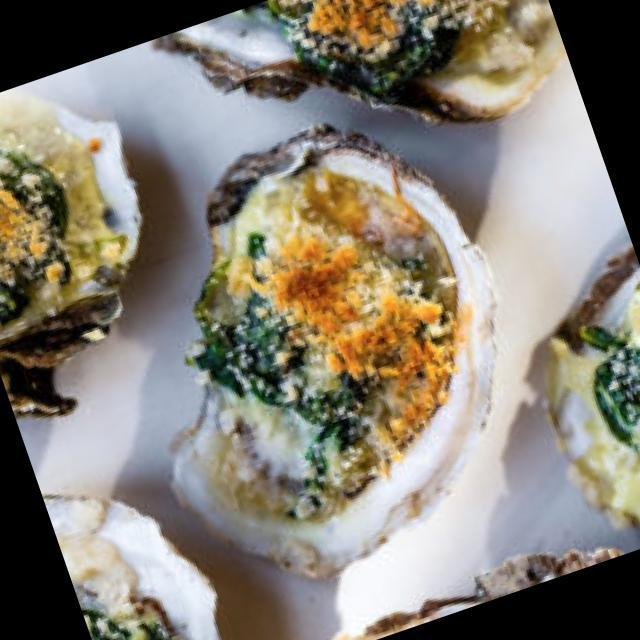Oyster-Open: (174, 140, 496, 582), (168, 0, 590, 118), (0, 94, 140, 420), (0, 446, 204, 640), (526, 239, 640, 534)
